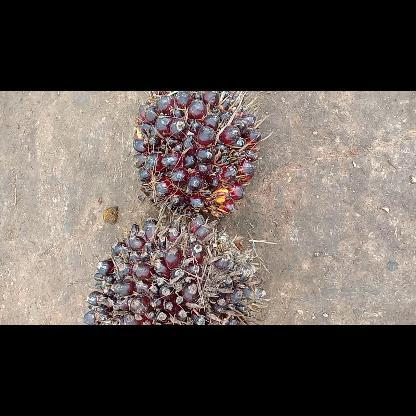TBS mentah: (78, 220, 264, 324), (138, 92, 260, 230)
